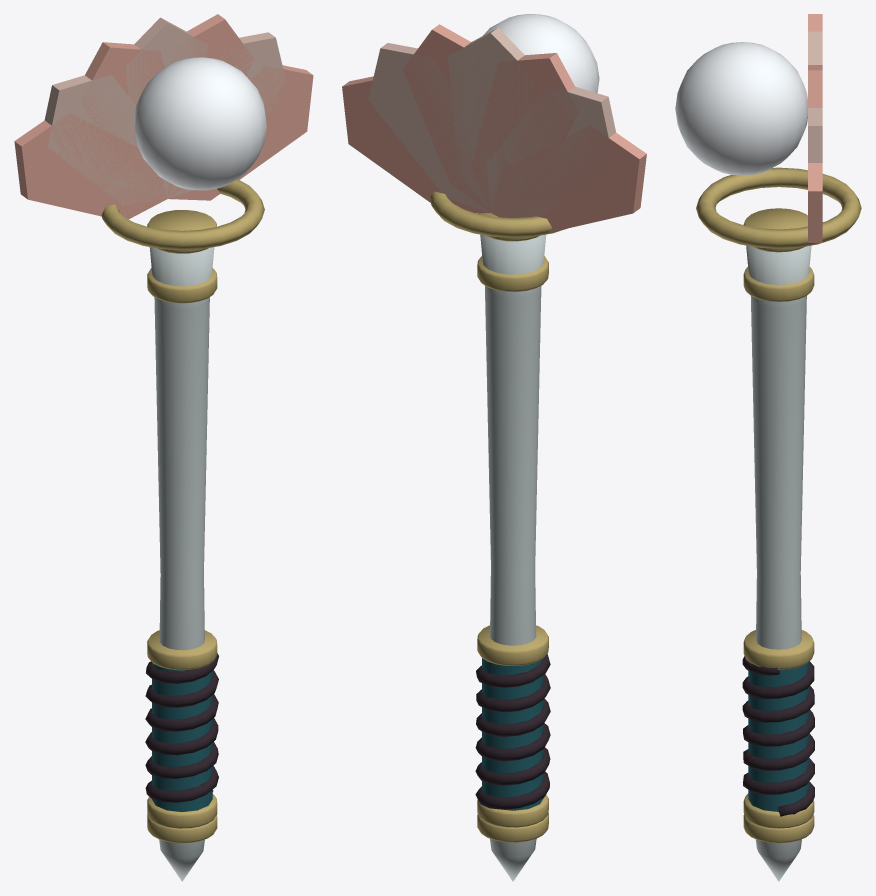
Rendered from mace_pearl.fbx.
The picture shows the model from 3 angles, left to right: view 1: azimuth 30°, elevation 25°; view 2: azimuth 150°, elevation 25°; view 3: azimuth 270°, elevation 25°; orthographic projection.
Visible parts, largest first — view 1: mace_pearl; view 2: mace_pearl; view 3: mace_pearl.
Boxes of the visible parts, <box> form: mace_pearl: <box>14,14,313,881</box>; mace_pearl: <box>342,14,646,881</box>; mace_pearl: <box>675,14,861,881</box>.
Bounding box in the file's own units: 0.2771 × 0.77 × 0.153.
